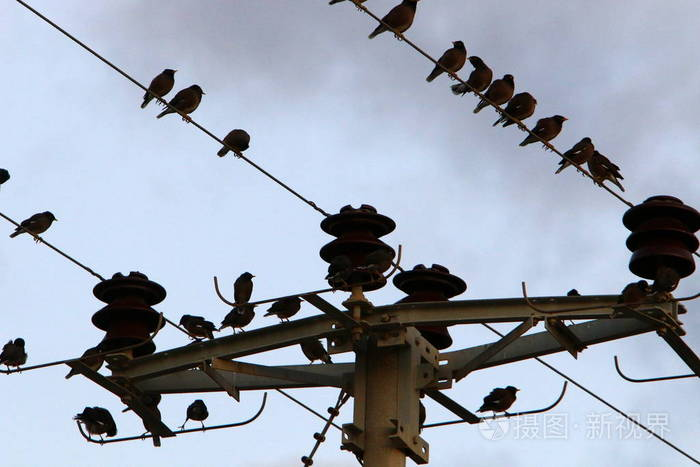insulator: (623, 197, 700, 279), (316, 205, 393, 281), (89, 276, 167, 340), (392, 265, 472, 323)
